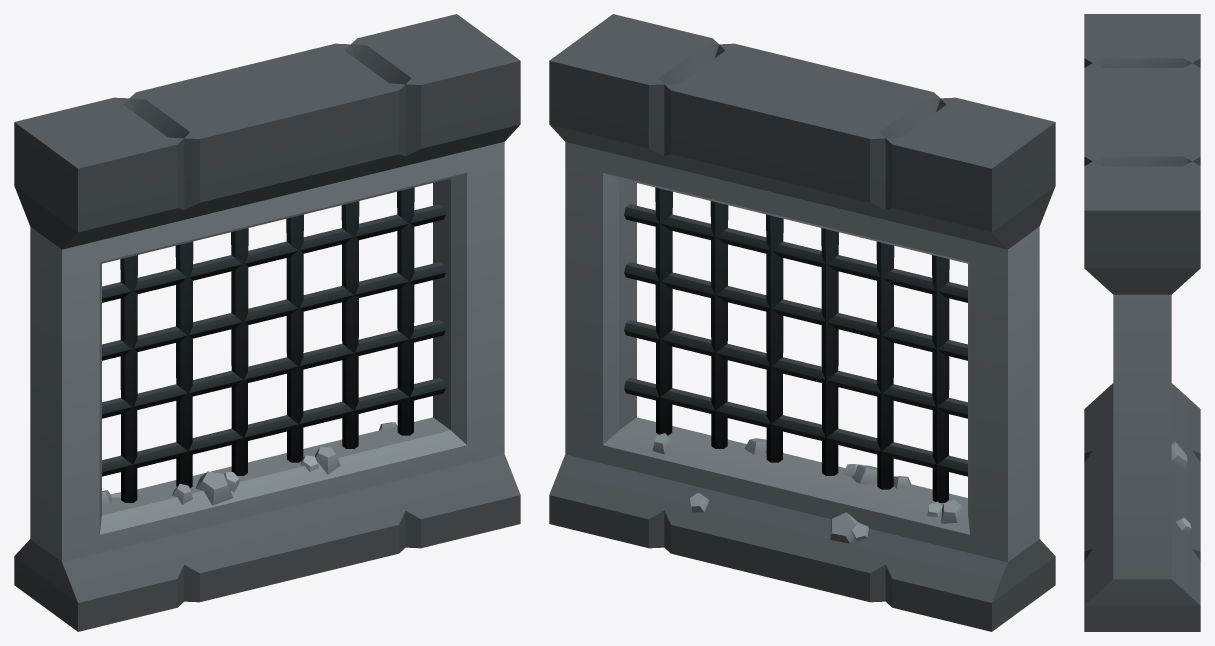
File: wall_gated.gltf
3 renders of one model, left to right at view 1: azimuth 30°, elevation 25°; view 2: azimuth 150°, elevation 25°; view 3: azimuth 270°, elevation 25°, orthographic. The views are drawn at different scales.
Visible parts, largest first — view 1: wall_gated; view 2: wall_gated; view 3: wall_gated.
Part boxes in pixels (<box>): wall_gated: <box>14,14,520,631</box>; wall_gated: <box>549,14,1055,631</box>; wall_gated: <box>1084,14,1200,631</box>.
Size of the model in its own units: 4 by 4 by 1.
Materials: 1 (1 with a texture image).
